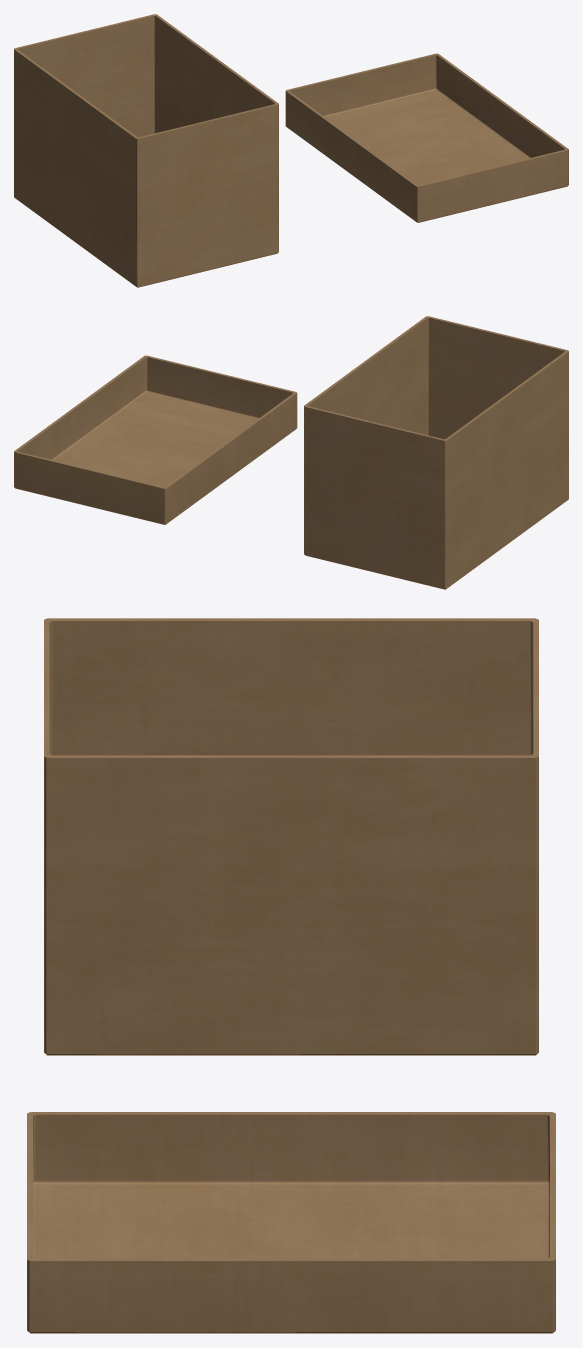
The model's file is SM_Cardboard.fbx.
The picture shows the model from 3 angles, top to bottom: view 1: azimuth 30°, elevation 25°; view 2: azimuth 150°, elevation 25°; view 3: azimuth 270°, elevation 25°; orthographic projection. The views are drawn at different scales.
Parts seen in each view (by area): view 1: SM_Cardboard_LOD0; view 2: SM_Cardboard_LOD0; view 3: SM_Cardboard_LOD0.
Part boxes in pixels (x1,y1,x2,y2): SM_Cardboard_LOD0: [14, 14, 568, 287]; SM_Cardboard_LOD0: [14, 316, 568, 589]; SM_Cardboard_LOD0: [27, 618, 555, 1333].
Bounding box in the file's own units: 59.99 × 32.04 × 20.
